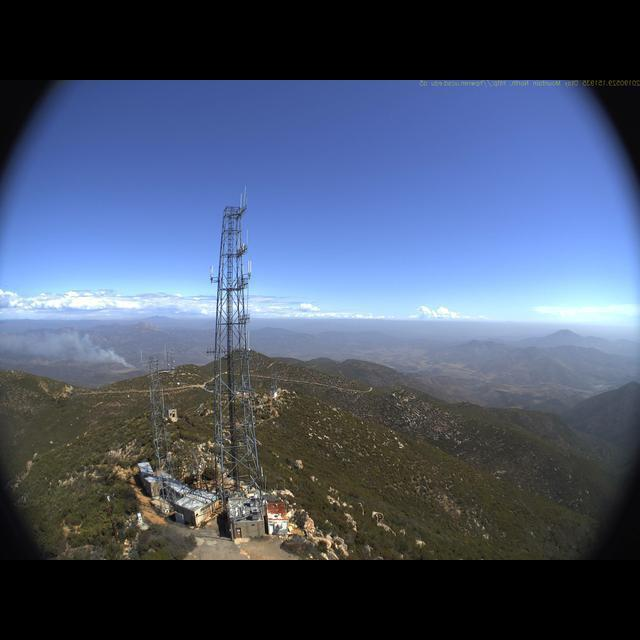Smoke: (3, 329, 141, 370)
